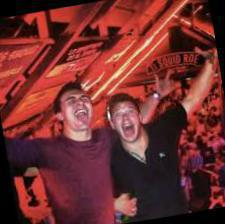Drunk: (60, 90, 94, 130), (110, 103, 141, 142)
